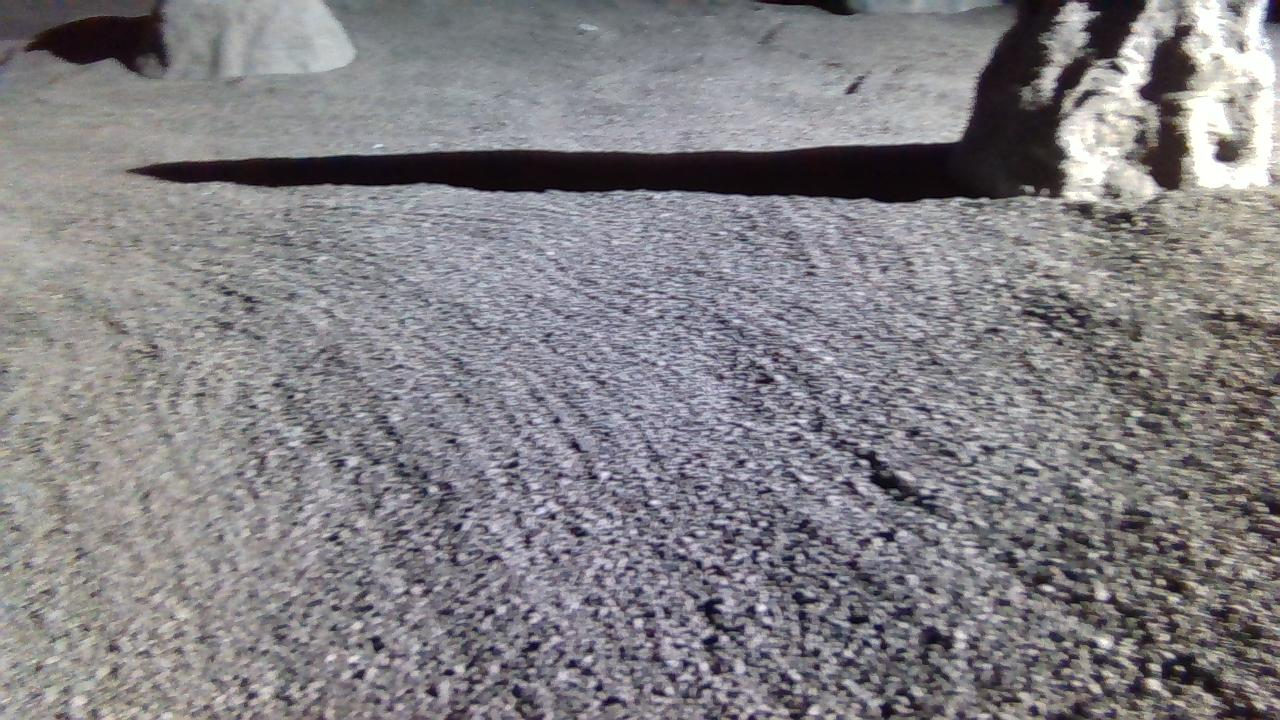rock: (955, 0, 1279, 200), (136, 0, 352, 80), (849, 0, 1007, 12)
